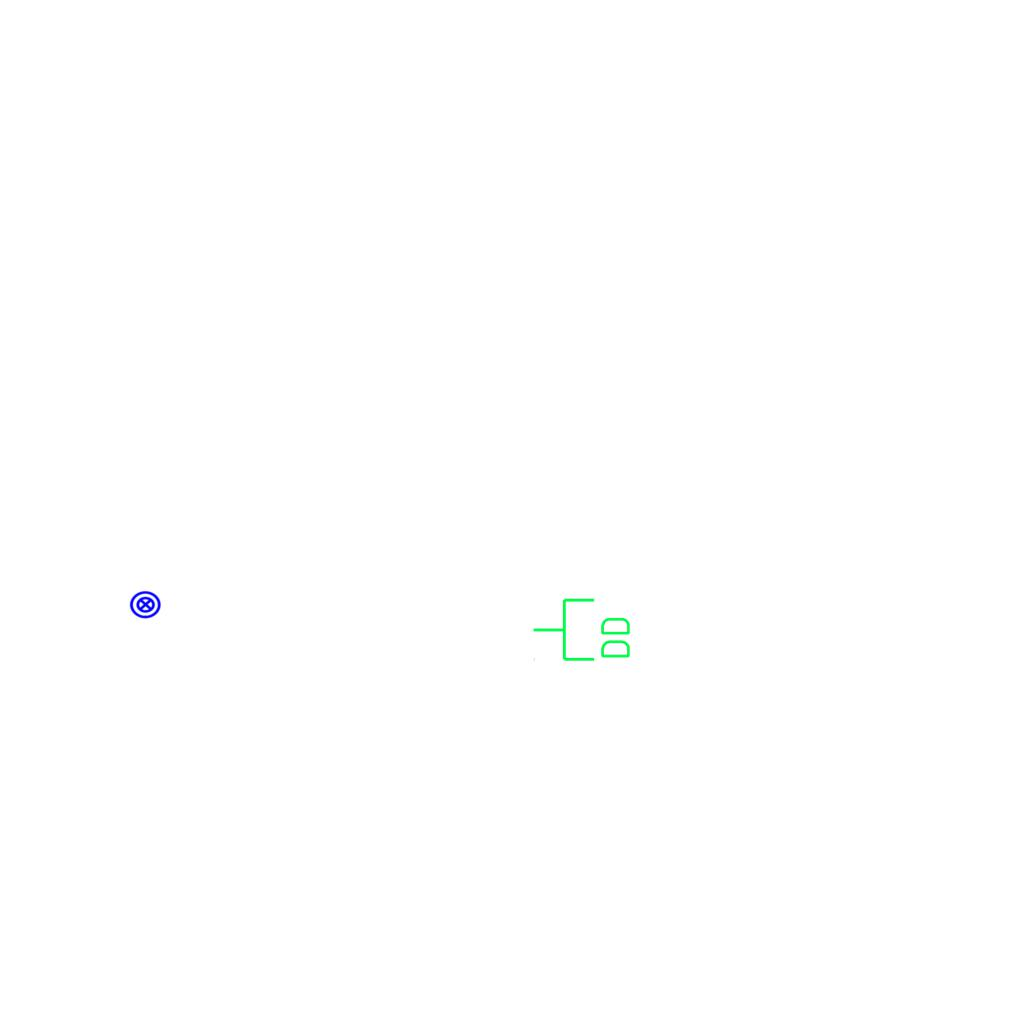Datenanschluss_zweifach: (531, 596, 634, 665)
Taster_beleuchtet: (129, 588, 162, 621)
